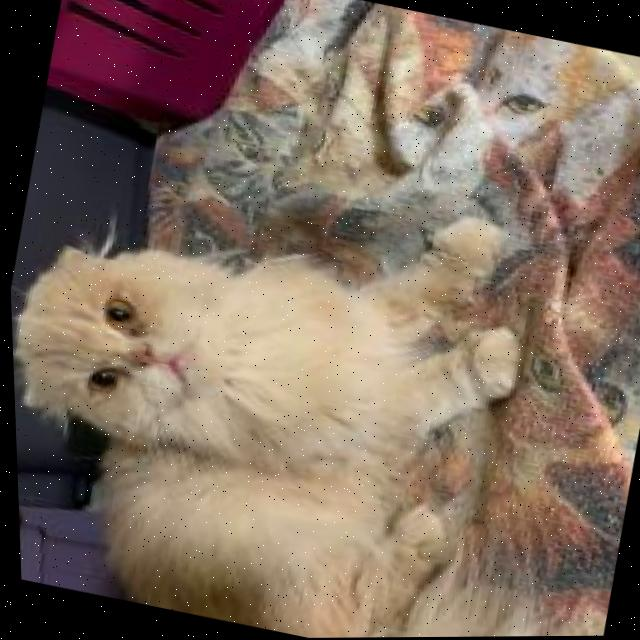Scottish Fold: (4, 120, 555, 640)
